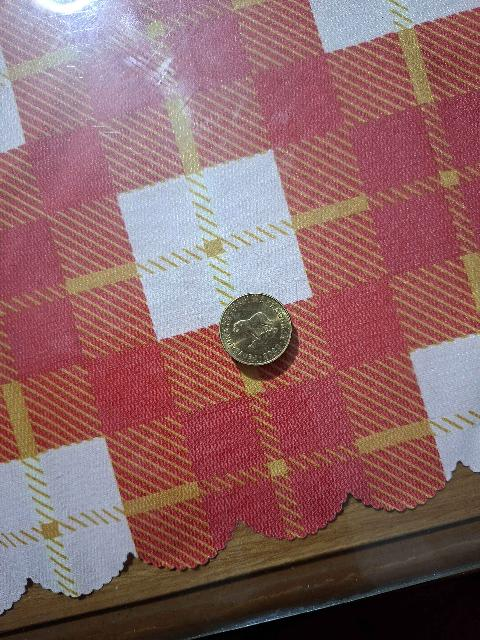1_coin: (219, 293, 291, 365)
